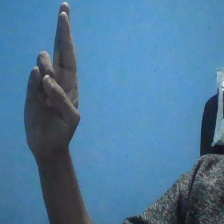R: (20, 1, 86, 158)
